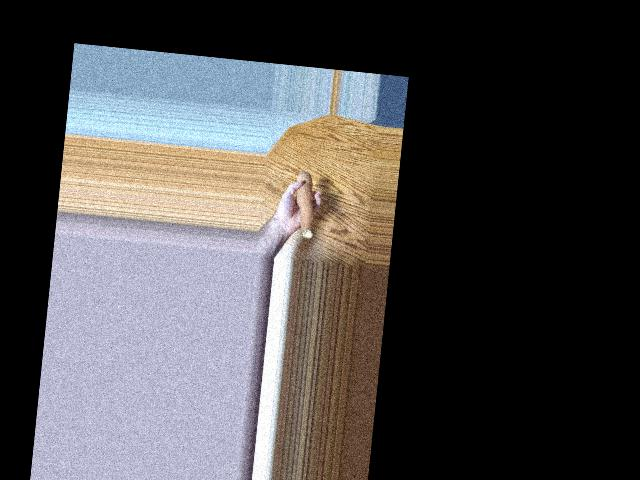sweet_potato: (291, 171, 316, 237)
